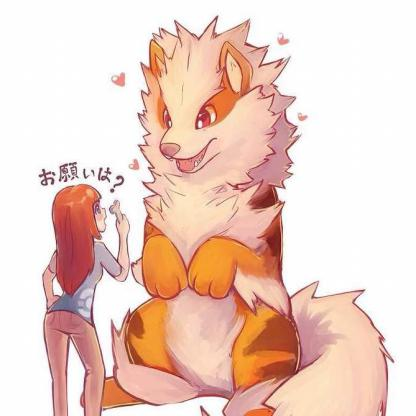Arcanine: (123, 25, 311, 416)
